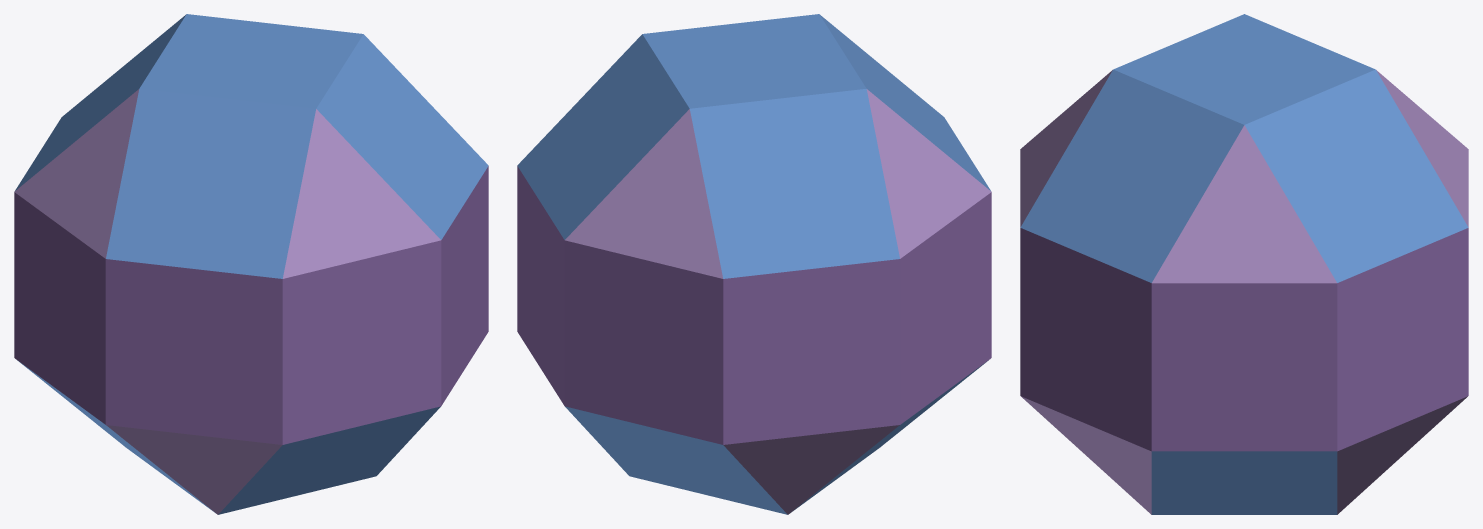
File: J37.GirobicupulaCuadradaElongada.gltf
3 views of the same model, side by side, from view 1: azimuth 30°, elevation 25°; view 2: azimuth 150°, elevation 25°; view 3: azimuth 270°, elevation 25° (orthographic).
Parts seen in each view (by area): view 1: J37.GirobicupulaCuadradaElongada; view 2: J37.GirobicupulaCuadradaElongada; view 3: J37.GirobicupulaCuadradaElongada.
Boxes of the visible parts, x1,y1,x2,y2 form: J37.GirobicupulaCuadradaElongada: (14,14,488,514); J37.GirobicupulaCuadradaElongada: (517,14,991,514); J37.GirobicupulaCuadradaElongada: (1020,14,1468,514).
Size of the model in its own units: 17.26 by 17.26 by 17.26.
